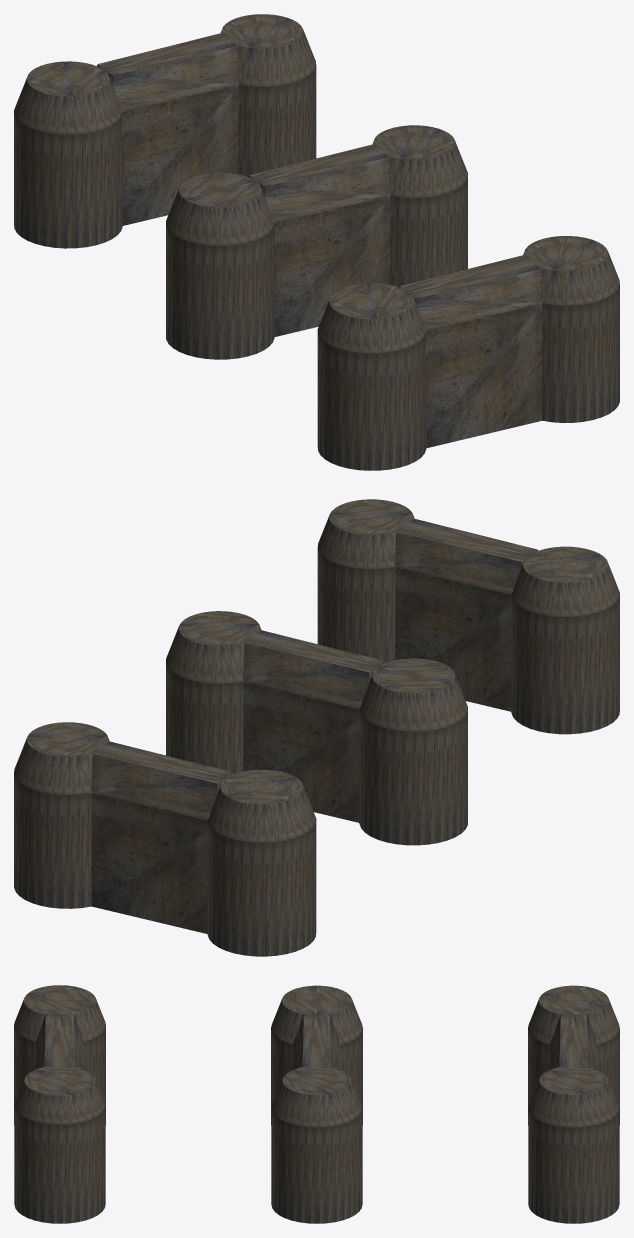
The model's file is pt_lanes.obj.
3 views of the same model, one above another, from view 1: azimuth 30°, elevation 25°; view 2: azimuth 150°, elevation 25°; view 3: azimuth 270°, elevation 25° (orthographic). The views are drawn at different scales.
Visible parts, largest first — view 1: Cylinder.002_Cylinder.004, Cylinder, Cylinder.001_Cylinder.003; view 2: Cylinder, Cylinder.002_Cylinder.004, Cylinder.001_Cylinder.003; view 3: Cylinder.002_Cylinder.004, Cylinder, Cylinder.001_Cylinder.003.
Boxes of the visible parts, bbox=[...] form: Cylinder.002_Cylinder.004: bbox=[317, 236, 619, 470]; Cylinder: bbox=[14, 14, 316, 248]; Cylinder.001_Cylinder.003: bbox=[166, 125, 467, 359]; Cylinder: bbox=[14, 722, 316, 956]; Cylinder.002_Cylinder.004: bbox=[317, 499, 619, 734]; Cylinder.001_Cylinder.003: bbox=[166, 611, 467, 845]; Cylinder.002_Cylinder.004: bbox=[14, 985, 105, 1223]; Cylinder: bbox=[528, 985, 619, 1223]; Cylinder.001_Cylinder.003: bbox=[271, 985, 362, 1223].
Size of the model in its own units: 2.19 by 1.07 by 4.72.
3 materials, 3 textured.
